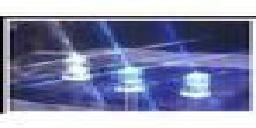LED: (116, 63, 153, 111), (176, 67, 216, 106), (61, 49, 96, 84)
